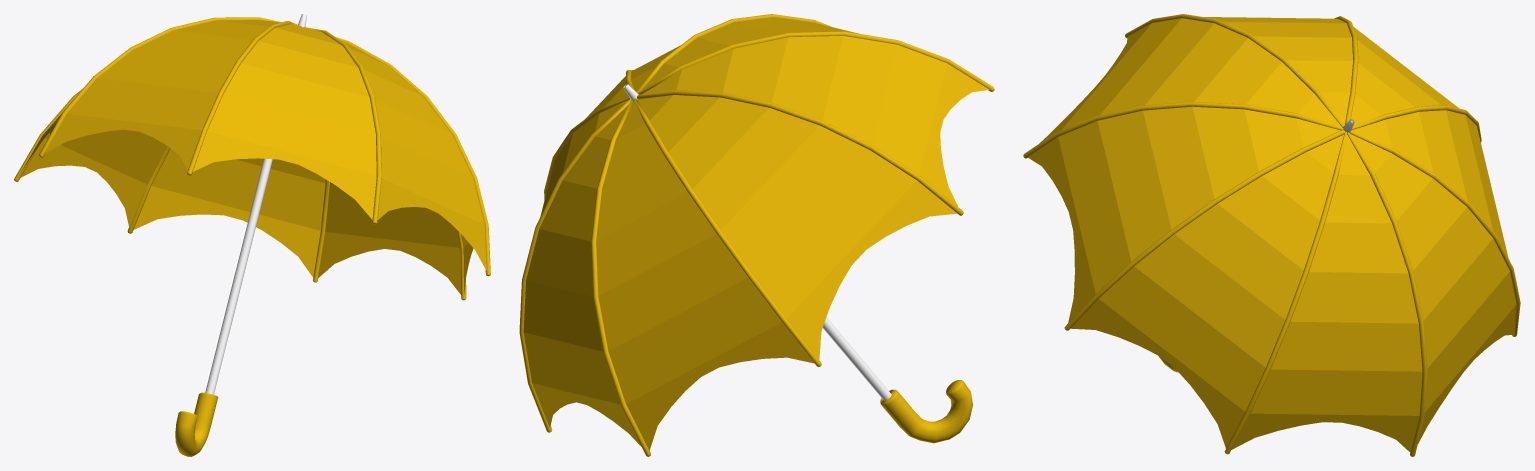
Rendered from umbrella.glb.
The picture shows the model from 3 angles, left to right: view 1: azimuth 30°, elevation 25°; view 2: azimuth 150°, elevation 25°; view 3: azimuth 270°, elevation 25°; orthographic projection. The views are drawn at different scales.
Parts seen in each view (by area): view 1: Sphere.001, ribs, Cylinder, Cylinder.001; view 2: Sphere.001, ribs, Cylinder.001, Cylinder; view 3: Sphere.001, ribs.
Part boxes in pixels (<box>): Sphere.001: <box>20,20,486,294</box>; ribs: <box>14,17,490,300</box>; Cylinder: <box>205,14,306,394</box>; Cylinder.001: <box>175,392,218,456</box>; Sphere.001: <box>523,17,989,450</box>; ribs: <box>519,14,994,456</box>; Cylinder.001: <box>880,380,972,443</box>; Cylinder: <box>623,84,891,400</box>; Sphere.001: <box>1028,17,1516,452</box>; ribs: <box>1023,14,1520,456</box>.
Bounding box in the file's own units: 1.35 × 1.2 × 1.4.
